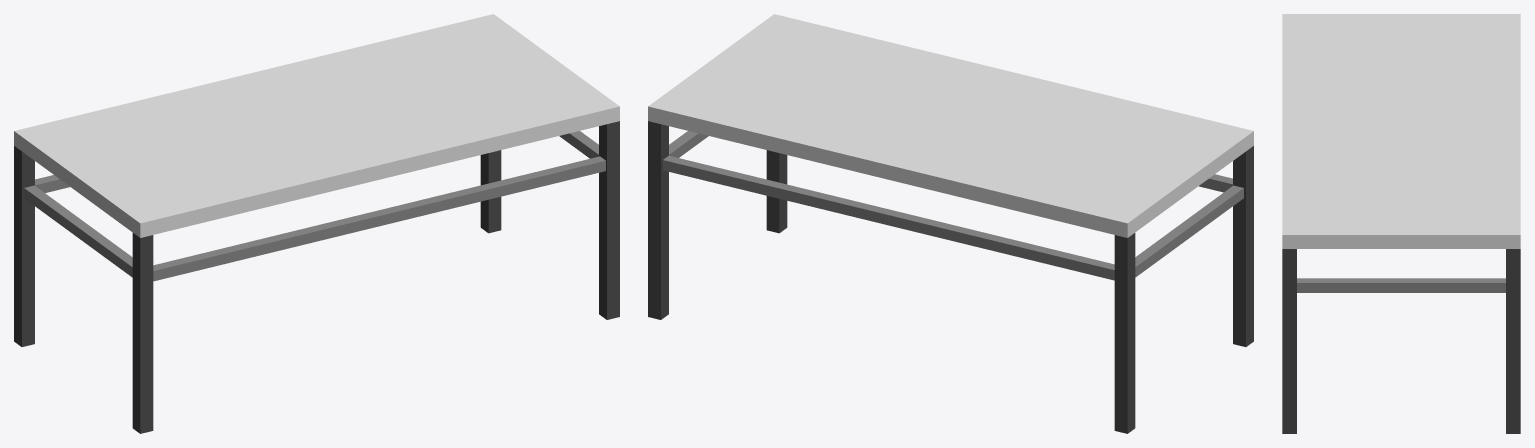
Rendered from Table.fbx.
The picture shows the model from 3 angles, left to right: view 1: azimuth 30°, elevation 25°; view 2: azimuth 150°, elevation 25°; view 3: azimuth 270°, elevation 25°; orthographic projection. The views are drawn at different scales.
Parts seen in each view (by area): view 1: polySurface3, TableLegs, polySurface2; view 2: polySurface3, TableLegs, polySurface2; view 3: polySurface3, TableLegs, polySurface2.
Boxes of the visible parts, x1,y1,x2,y2 form: polySurface3: (14, 14, 619, 237); TableLegs: (14, 121, 619, 433); polySurface2: (24, 131, 605, 281); polySurface3: (648, 14, 1253, 237); TableLegs: (648, 121, 1253, 433); polySurface2: (663, 131, 1243, 280); polySurface3: (1282, 14, 1520, 248); TableLegs: (1282, 249, 1520, 433); polySurface2: (1297, 278, 1505, 292).
Size of the model in its own units: 604 by 253 by 276.
1 material, 1 textured.
